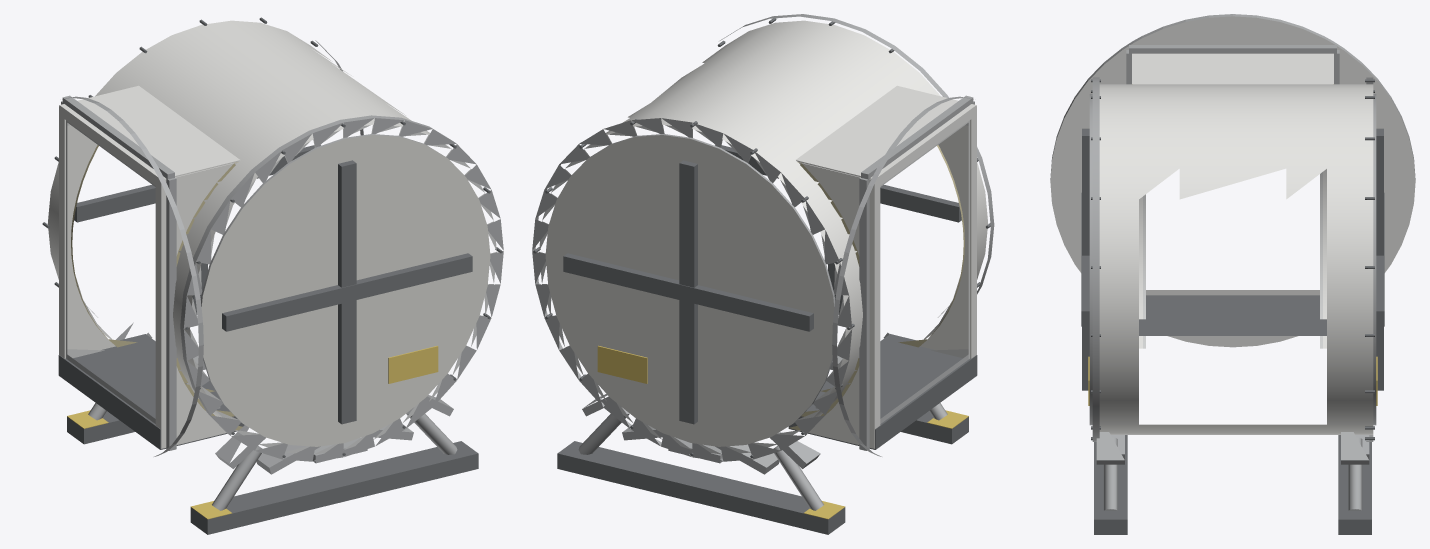
File: habWindowJLbf_steel.glb
3 views of the same model, side by side, from view 1: azimuth 30°, elevation 25°; view 2: azimuth 150°, elevation 25°; view 3: azimuth 270°, elevation 25° (orthographic).
Visible parts, largest first — view 1: habWindowJLbf_steel; view 2: habWindowJLbf_steel; view 3: habWindowJLbf_steel.
Boxes of the visible parts, x1,y1,x2,y2 form: habWindowJLbf_steel: (42, 17, 503, 534); habWindowJLbf_steel: (532, 14, 994, 534); habWindowJLbf_steel: (1050, 14, 1415, 534).
Size of the model in its own units: 2.65 by 2.95 by 2.6.
